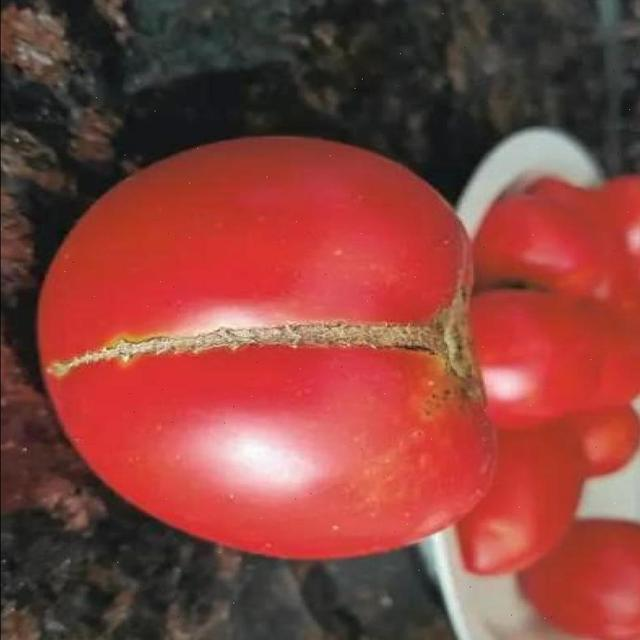Healthy Fruit: (52, 52, 401, 386)
